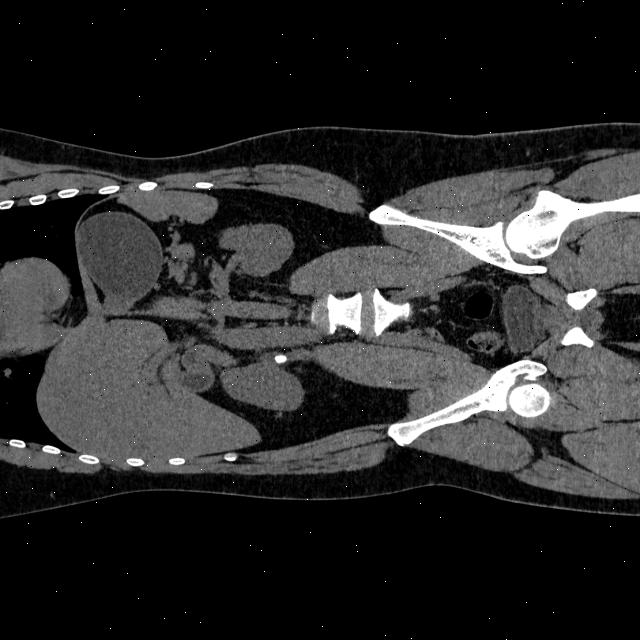kidneystone: (275, 354, 287, 362)
